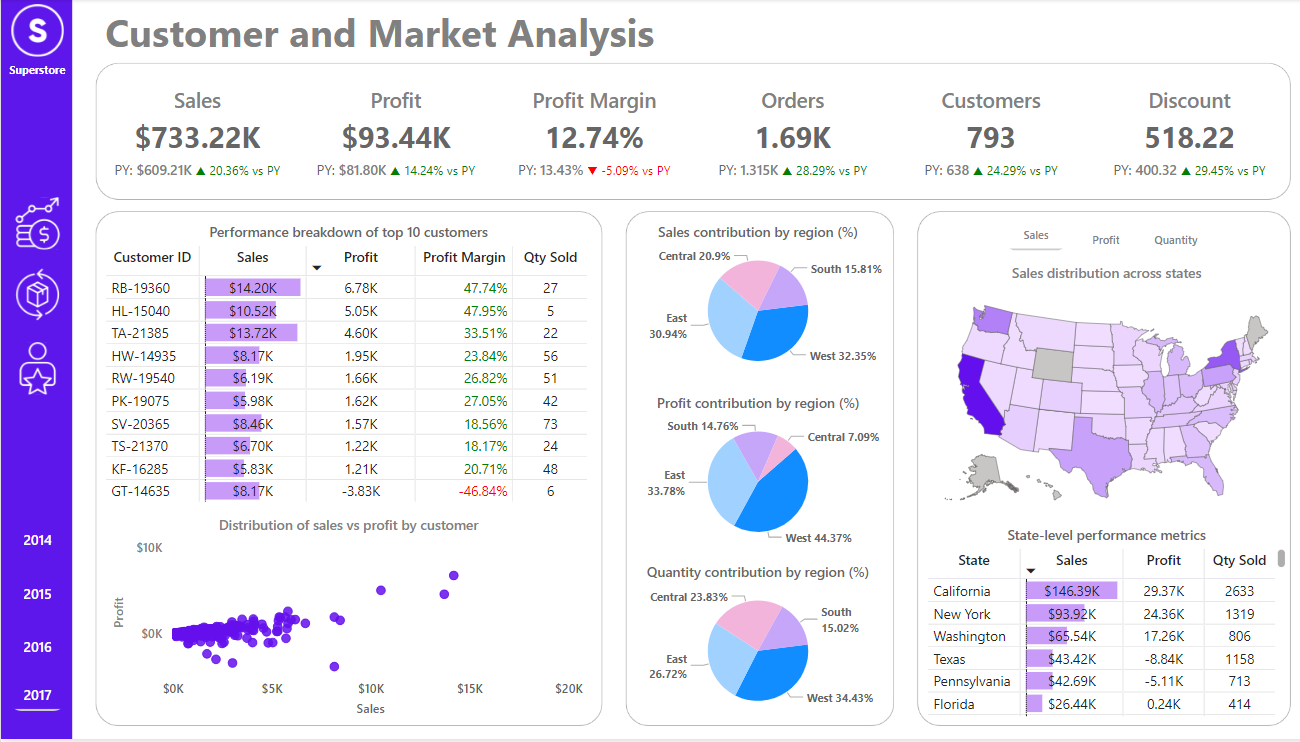

The page's visual inventory and layout, read from the dashboard file:
{"tool":"powerbi","page":{"name":"Customer and Market Analysis","canvas":[1280,720],"ordinal":2},"visuals":[{"type":"tableEx","title":"Performance breakdown of top 10 customers","fields":{"Values":["Customers.Customer ID","Sum(Sales.Sales)","Sum(Sales.Profit)","All measures.Profit Margin","Sum(Sales.Quantity)"]},"box":[96.3,217.9,483.4,278.2],"z":0},{"type":"textbox","box":[96,2,670,71],"z":1000},{"type":"tableEx","title":"State-level performance metrics","fields":{"Values":["Sales.State","Sum(Sales.Sales)","Sum(Sales.Profit)","Sum(Sales.Quantity)"]},"box":[895.8,512.6,358.9,189.7],"z":2000},{"type":"advancedSlicerVisual","fields":{"Values":["Map Selection.Map Selection"]},"box":[967.8,188.7,215,81.7],"z":3000},{"type":"shapeMap","fields":{"Value":["All measures.Total Sales"],"Category":["Sales.State"]},"box":[895.8,257.8,358.9,252.9],"z":4000},{"type":"pieChart","title":"Sales contribution by region (%)","fields":{"Category":["Sales.Region"],"Y":["Sum(Sales.Sales)"]},"box":[605,217.9,262.6,153.7],"z":5000},{"type":"advancedSlicerVisual","fields":{"Values":["Calendar.Year"]},"box":[0,479.5,71,240.2],"z":6000},{"type":"actionButton","box":[0,329.7,71,59.3],"z":7000},{"type":"actionButton","box":[0,257.8,71,59.3],"z":8000},{"type":"actionButton","box":[0,188.7,71,59.3],"z":9000},{"type":"actionButton","box":[0,1,71,59.3],"z":10000},{"type":"textbox","box":[0,53.5,77.8,33.1],"z":11000},{"type":"cardVisual","fields":{"Data":["All measures.Total Sales","All measures.Total Profit","All measures.Profit Margin","All measures.Total Orders","All measures.Total Customers","All measures.Total Discount"]},"box":[89.5,60.3,1173,138.1],"z":12000},{"type":"pieChart","title":"Profit contribution by region (%)","fields":{"Category":["Sales.Region"],"Y":["All measures.Total Profit"]},"box":[605,384.2,262.6,153.7],"z":13000},{"type":"pieChart","title":"Quantity contribution by region (%)","fields":{"Category":["Sales.Region"],"Y":["All measures.Total Quantity"]},"box":[605,548.6,262.6,153.7],"z":14000},{"type":"scatterChart","title":"Distribution of sales vs profit by customer","fields":{"Category":["Customers.Customer ID"],"X":["All measures.Total Sales"],"Y":["All measures.Total Profit"]},"box":[105,502.9,465.9,199.4],"z":15000}]}

Visuals, with their boxes on the page's 1280x720 design canvas (x1, y1, x2, y2). These are canvas units, not pixel positions in the 1300x742 screenshot, which may show the page scaled, cropped or inside an application window:
"Performance breakdown of top 10 customers" tableEx: {"left": 96, "top": 218, "right": 580, "bottom": 496}
textbox: {"left": 96, "top": 2, "right": 766, "bottom": 73}
"State-level performance metrics" tableEx: {"left": 896, "top": 513, "right": 1255, "bottom": 702}
advancedSlicerVisual - Map Selection.Map Selection: {"left": 968, "top": 189, "right": 1183, "bottom": 270}
shapeMap - All measures.Total Sales x Sales.State: {"left": 896, "top": 258, "right": 1255, "bottom": 511}
"Sales contribution by region (%)" pieChart: {"left": 605, "top": 218, "right": 868, "bottom": 372}
advancedSlicerVisual - Calendar.Year: {"left": 0, "top": 480, "right": 71, "bottom": 720}
actionButton: {"left": 0, "top": 330, "right": 71, "bottom": 389}
actionButton: {"left": 0, "top": 258, "right": 71, "bottom": 317}
actionButton: {"left": 0, "top": 189, "right": 71, "bottom": 248}
actionButton: {"left": 0, "top": 1, "right": 71, "bottom": 60}
textbox: {"left": 0, "top": 54, "right": 78, "bottom": 87}
cardVisual - All measures.Total Sales x All measures.Total Profit: {"left": 90, "top": 60, "right": 1262, "bottom": 198}
"Profit contribution by region (%)" pieChart: {"left": 605, "top": 384, "right": 868, "bottom": 538}
"Quantity contribution by region (%)" pieChart: {"left": 605, "top": 549, "right": 868, "bottom": 702}
"Distribution of sales vs profit by customer" scatterChart: {"left": 105, "top": 503, "right": 571, "bottom": 702}
